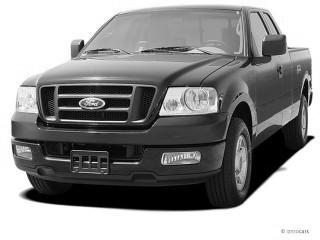car: (12, 6, 314, 202)
